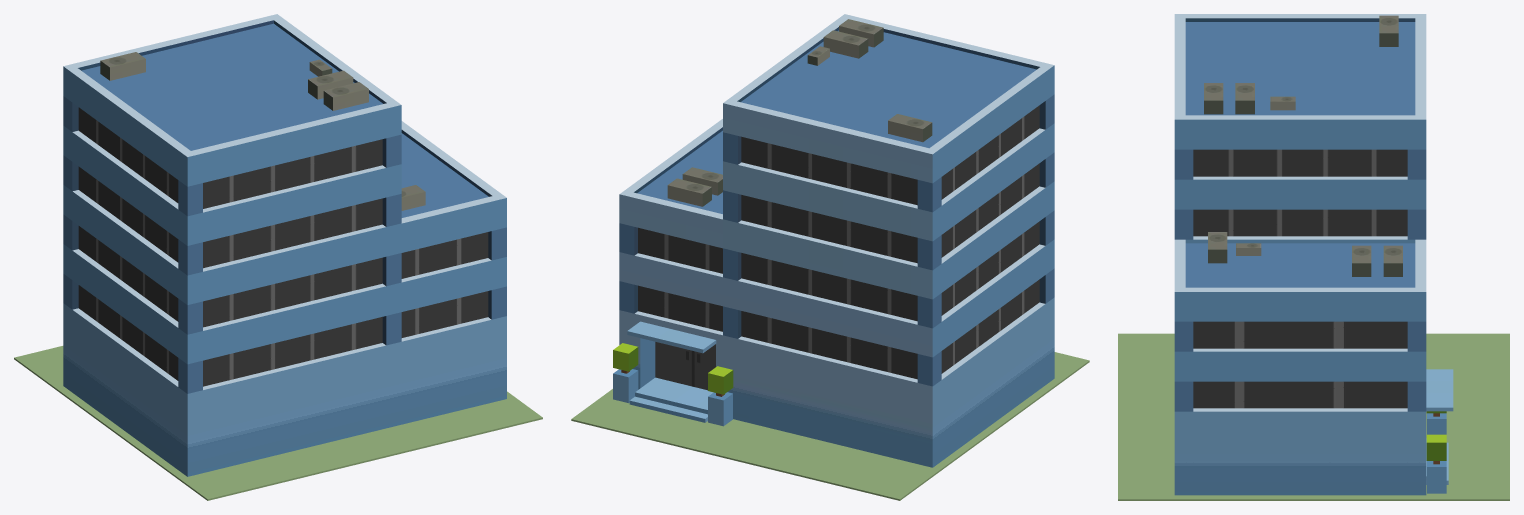
The model's file is office.glb.
The picture shows the model from 3 angles, left to right: view 1: azimuth 30°, elevation 25°; view 2: azimuth 150°, elevation 25°; view 3: azimuth 270°, elevation 25°; orthographic projection. The views are drawn at different scales.
Visible parts, largest first — view 1: Office_Stepped, Ground; view 2: Office_Stepped, Ground; view 3: Office_Stepped, Ground.
Boxes of the visible parts, x1,y1,x2,y2 form: Office_Stepped: (63, 14, 506, 476); Ground: (14, 346, 542, 500); Office_Stepped: (613, 14, 1054, 467); Ground: (571, 352, 1089, 500); Office_Stepped: (1174, 14, 1453, 495); Ground: (1118, 333, 1509, 500).
Size of the model in its own units: 32 by 30.21 by 32.
2 materials, 1 textured.
